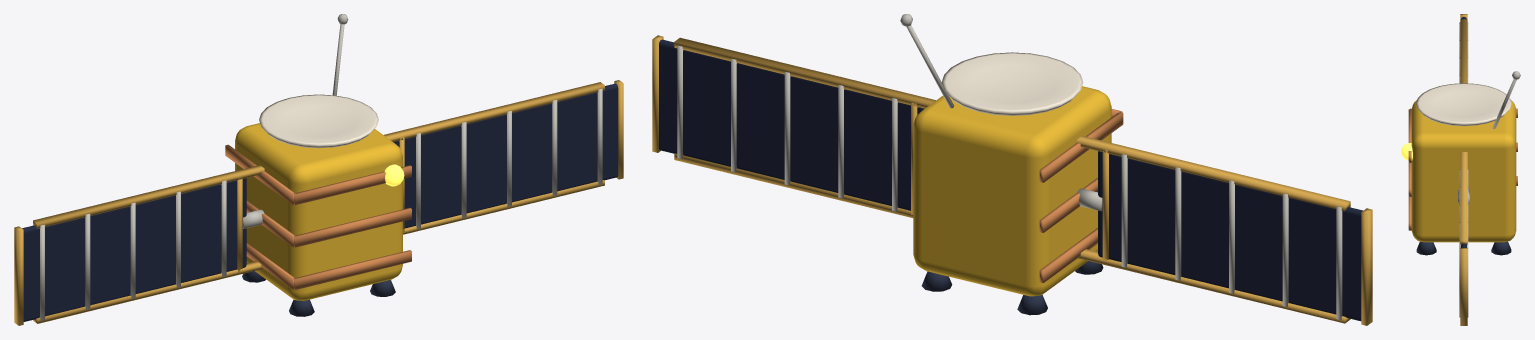
The model's file is satellite.glb.
3 renders of one model, left to right at view 1: azimuth 30°, elevation 25°; view 2: azimuth 150°, elevation 25°; view 3: azimuth 270°, elevation 25°, orthographic. The views are drawn at different scales.
Parts seen in each view (by area): view 1: Satellite_Wings, Satellite, Satellite_XFrames, Satellite_XFoil, Satellite_Grid, Satellite_Dish, Satellite_XThrusters, Satellite_XAntenna; view 2: Satellite_Wings, Satellite, Satellite_XFrames, Satellite_Grid, Satellite_Dish, Satellite_XFoil, Satellite_XThrusters, Satellite_XAntenna; view 3: Satellite, Satellite_Dish, Satellite_XFrames, Satellite_Grid, Satellite_XFoil, Satellite_XThrusters, Satellite_XAntenna, Satellite_Light.
Boxes of the visible parts, x1,y1,x2,y2 form: Satellite_Wings: (22, 83, 618, 321); Satellite: (235, 123, 402, 300); Satellite_XFrames: (14, 80, 623, 325); Satellite_XFoil: (225, 144, 411, 289); Satellite_Grid: (39, 88, 602, 320); Satellite_Dish: (259, 94, 378, 148); Satellite_XThrusters: (242, 271, 395, 316); Satellite_XAntenna: (332, 14, 348, 95); Satellite_Wings: (659, 39, 1362, 321); Satellite: (913, 86, 1111, 296); Satellite_XFrames: (652, 35, 1372, 325); Satellite_Grid: (677, 45, 1342, 319); Satellite_Dish: (941, 52, 1083, 115); Satellite_XFoil: (1039, 109, 1123, 282); Satellite_XThrusters: (921, 261, 1103, 315); Satellite_XAntenna: (900, 14, 953, 108); Satellite: (1411, 100, 1516, 242); Satellite_Dish: (1416, 83, 1511, 126); Satellite_XFrames: (1460, 14, 1467, 325); Satellite_Grid: (1459, 22, 1468, 317); Satellite_XFoil: (1408, 108, 1517, 230); Satellite_XThrusters: (1416, 241, 1511, 255); Satellite_XAntenna: (1492, 71, 1520, 128); Satellite_Light: (1401, 143, 1412, 160).
Size of the model in its own units: 3.73 by 1.37 by 0.8.
